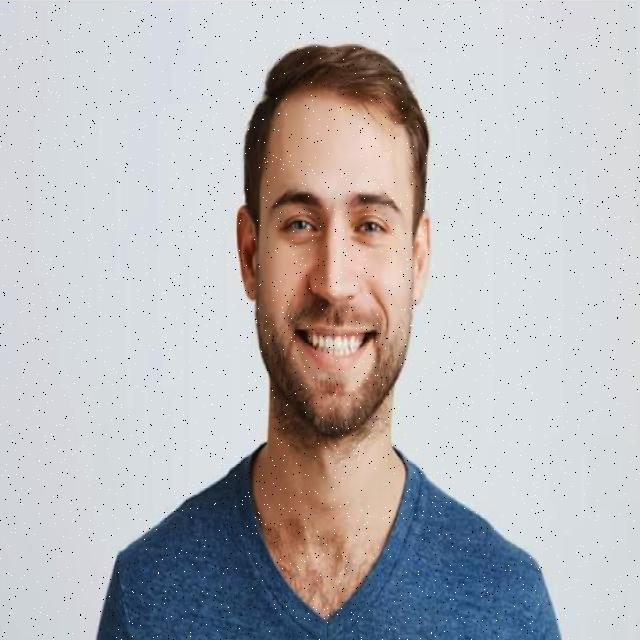puffy_eyes: (353, 234, 388, 247), (279, 234, 314, 244)
